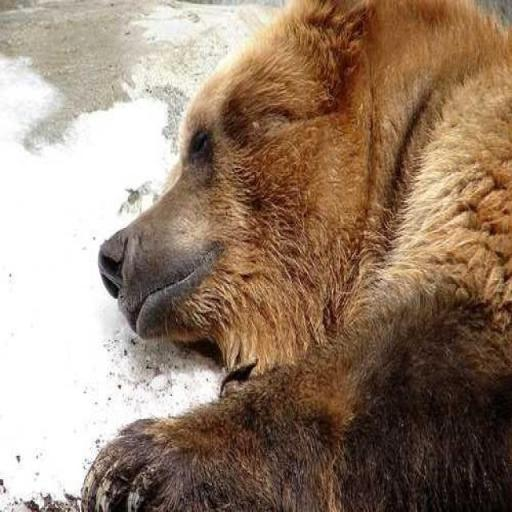Bear: (80, 0, 511, 510)
